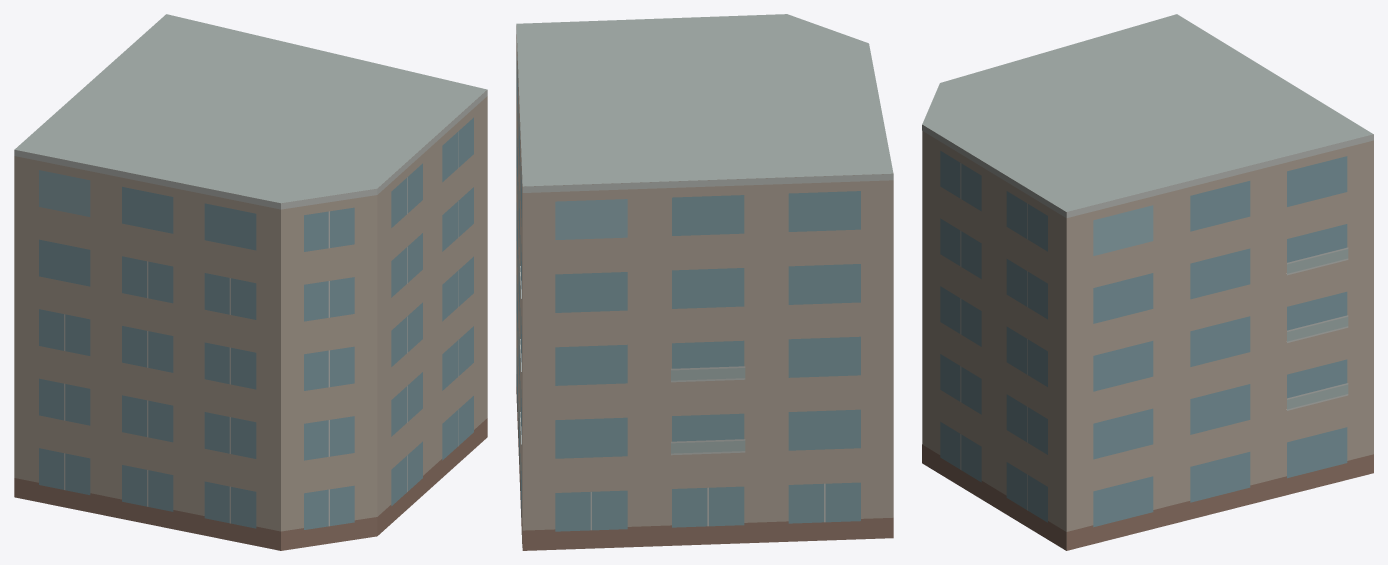
File: survey-upis-32969153.glb
3 renders of one model, left to right at view 1: azimuth 30°, elevation 25°; view 2: azimuth 150°, elevation 25°; view 3: azimuth 270°, elevation 25°, orthographic. The views are drawn at different scales.
Parts seen in each view (by area): view 1: survey-upis-32969153.tmp; view 2: survey-upis-32969153.tmp; view 3: survey-upis-32969153.tmp.
Boxes of the visible parts, x1,y1,x2,y2 form: survey-upis-32969153.tmp: (14,14,487,550); survey-upis-32969153.tmp: (516,14,893,550); survey-upis-32969153.tmp: (922,14,1373,550).
Bounding box in the file's own units: 16.86 × 13.44 × 16.25.
